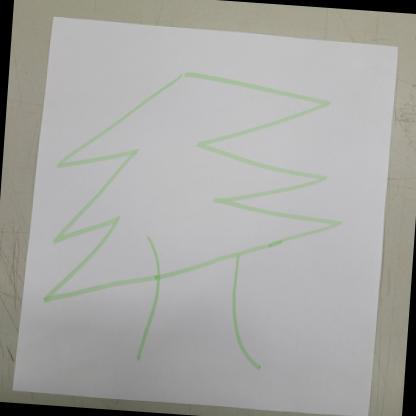crown_dizzy: (46, 55, 353, 323)
trunk_straight: (140, 284, 255, 352)
